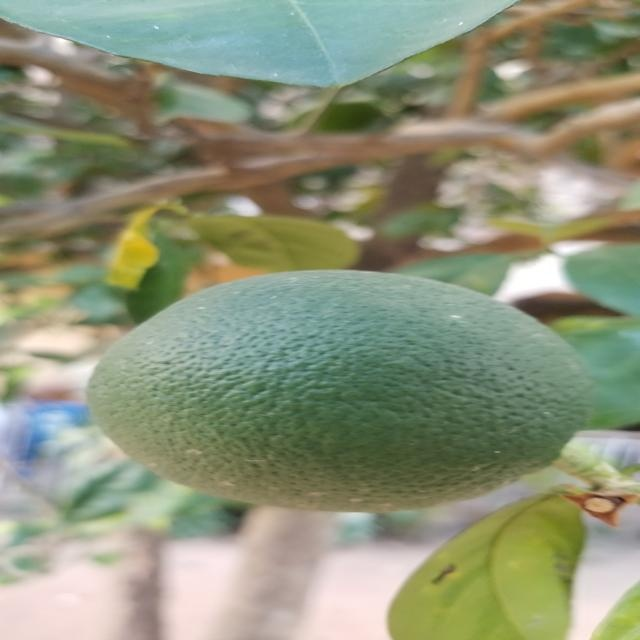agrume: (69, 267, 591, 521)
